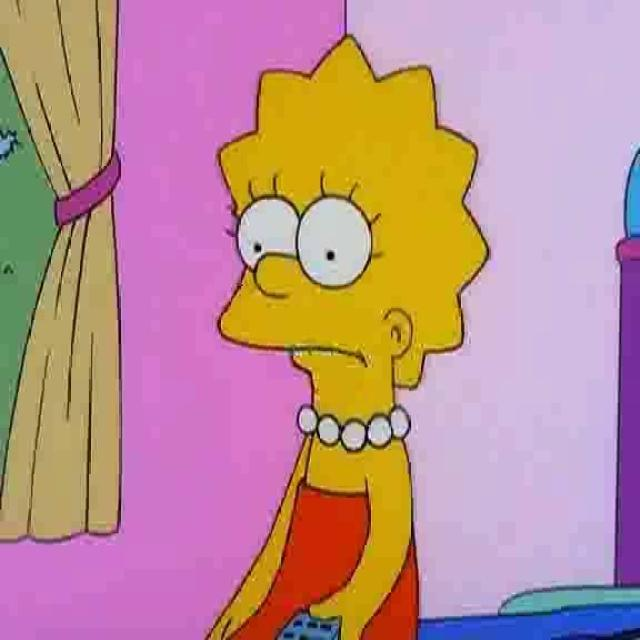Lisa Simpson: (217, 34, 490, 458)
